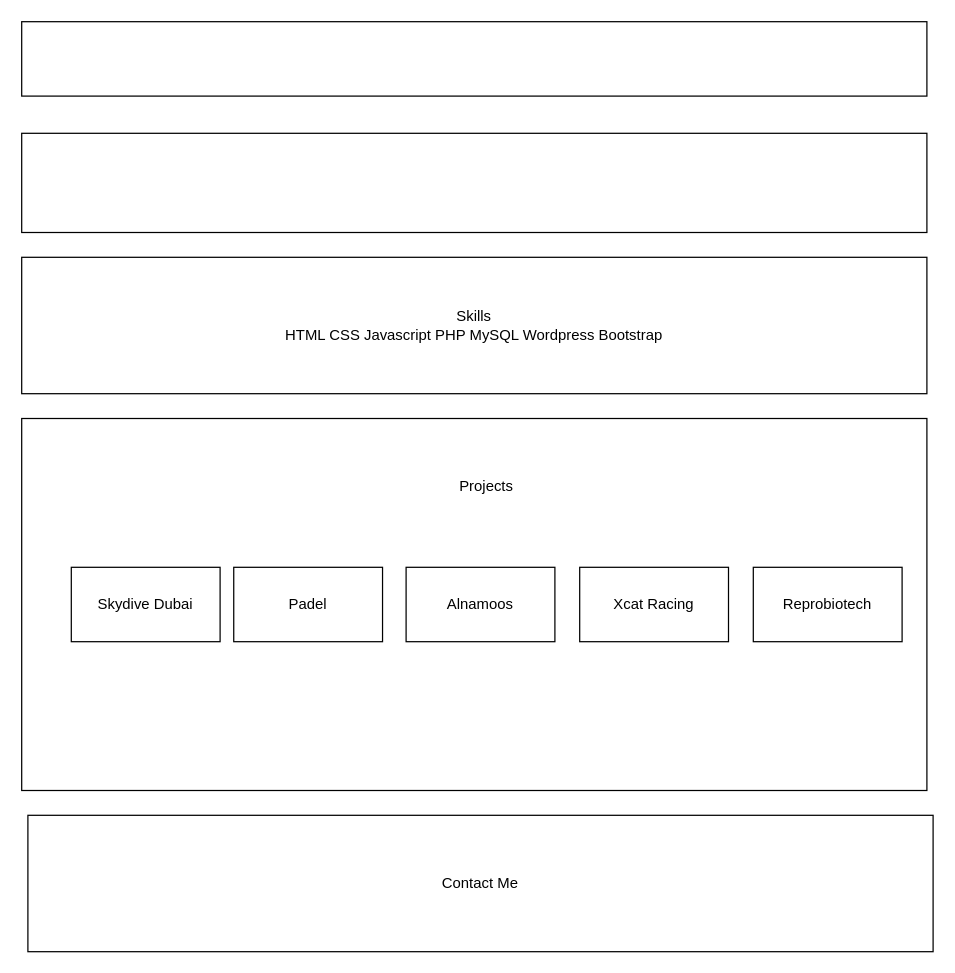
Image size: 955x973. Some labels were removed from this diagram. Here are the shapes that lost their labels. From the top down, the centre of each, then its label:
point 473,58: Menu
point 473,182: About me
